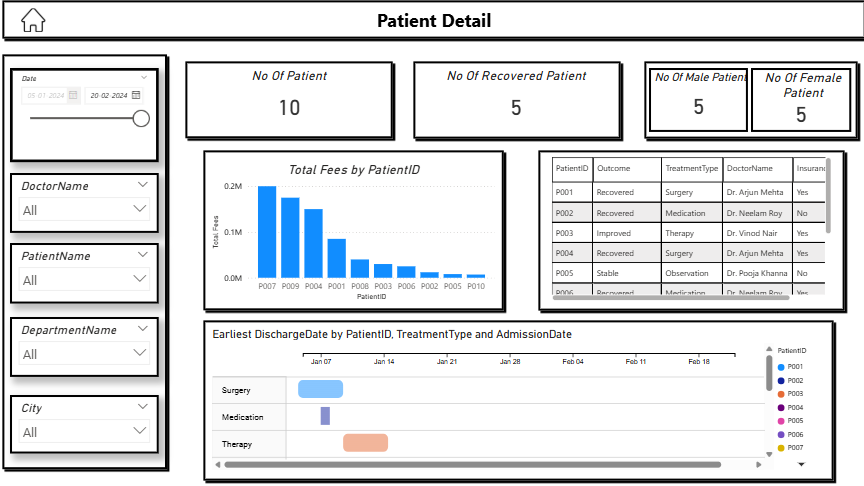

Layout of this report page (visuals, bound fields, positions):
{"tool":"powerbi","page":{"name":"Patient Details","canvas":[1291,731],"ordinal":2},"visuals":[{"type":"shape","box":[0,0,1292.6,66.9],"z":0},{"type":"image","box":[0,11.9,101,44.6],"z":1000},{"type":"shape","box":[0,80.5,254.6,626.3],"z":2000},{"type":"slicer","fields":{"Values":["PatientVisit.AdmissionDate"]},"box":[16.5,105.1,220.7,139.6],"z":3000},{"type":"slicer","fields":{"Values":["PatientVisit.DoctorName"]},"box":[16.5,261.2,220.7,88.6],"z":4000},{"type":"slicer","fields":{"Values":["PatientVisit.PatientName"]},"box":[16.5,364.8,220.7,90.1],"z":5000},{"type":"slicer","fields":{"Values":["PatientVisit.DepartmentName"]},"box":[16.5,475.9,220.7,88.6],"z":6000},{"type":"slicer","fields":{"Values":["PatientVisit.City"]},"box":[16.5,591.5,220.7,87.1],"z":7000},{"type":"shape","box":[272.3,90.3,318.1,124.3],"z":8000},{"type":"advanceCardE03760C5AB684758B56AA29F9E6C257B","title":"No Of Patient","fields":{"mainMeasure":["Count(PatientVisit.PatientID)"]},"box":[289.7,105.5,282.3,95.1],"z":9000},{"type":"shape","box":[610.7,90.6,318,124.8],"z":10000},{"type":"advanceCardE03760C5AB684758B56AA29F9E6C257B","title":"No Of Recovered Patient","fields":{"mainMeasure":["PatientVisit.Recovered Patients"]},"box":[630,105.5,276.4,95.1],"z":11000},{"type":"shape","box":[953.9,90.6,318,124.8],"z":12000},{"type":"advanceCardE03760C5AB684758B56AA29F9E6C257B","title":"No Of Male Patient","fields":{"mainMeasure":["PatientVisit.Male Patients"]},"box":[965.8,105.5,147.1,95.1],"z":13000},{"type":"advanceCardE03760C5AB684758B56AA29F9E6C257B","title":"No Of Female Patient","fields":{"mainMeasure":["PatientVisit.Female Patients"]},"box":[1112.8,105.5,148.6,95.1],"z":14000},{"type":"shape","box":[298.7,222.2,456.4,247.7],"z":15000},{"type":"columnChart","title":"Total Fees by PatientID","fields":{"Category":["PatientVisit.PatientID"],"Y":["Sum(PatientVisit.TotalCost)"]},"box":[312,245.2,429.4,211],"z":16000},{"type":"shape","box":[298.6,475.4,946.4,248.1],"z":17000},{"type":"Gantt1448688115699","fields":{"Legend":["PatientVisit.PatientID"],"StartDate":["PatientVisit.AdmissionDate"],"EndDate":["Min(PatientVisit.DischargeDate)"],"Task":["PatientVisit.TreatmentType"]},"box":[312,490.3,918.2,216.9],"z":18000},{"type":"shape","box":[796.4,222.9,465,248.1],"z":19000},{"type":"tableEx","fields":{"Values":["PatientVisit.PatientID","PatientVisit.Outcome","PatientVisit.TreatmentType","PatientVisit.DoctorName","PatientVisit.InsuranceCovered"]},"box":[815.7,233.3,426.4,222.9],"z":20000}]}

Visuals, with their boxes in screenshot pixels (x1, y1, x2, y2), scaled from the page's 1291x731 canvas onto the 864x486 screenshot:
shape: 0,0,863,44
image: 0,8,68,38
shape: 0,54,170,470
slicer - PatientVisit.AdmissionDate: 11,70,159,163
slicer - PatientVisit.DoctorName: 11,174,159,233
slicer - PatientVisit.PatientName: 11,243,159,302
slicer - PatientVisit.DepartmentName: 11,316,159,375
slicer - PatientVisit.City: 11,393,159,451
shape: 182,60,395,143
"No Of Patient" advanceCardE03760C5AB684758B56AA29F9E6C257B: 194,70,383,133
shape: 409,60,622,143
"No Of Recovered Patient" advanceCardE03760C5AB684758B56AA29F9E6C257B: 422,70,607,133
shape: 638,60,851,143
"No Of Male Patient" advanceCardE03760C5AB684758B56AA29F9E6C257B: 646,70,745,133
"No Of Female Patient" advanceCardE03760C5AB684758B56AA29F9E6C257B: 745,70,844,133
shape: 200,148,505,312
"Total Fees by PatientID" columnChart: 209,163,496,303
shape: 200,316,833,481
Gantt1448688115699 - PatientVisit.PatientID x PatientVisit.AdmissionDate: 209,326,823,470
shape: 533,148,844,313
tableEx - PatientVisit.PatientID x PatientVisit.Outcome: 546,155,831,303
